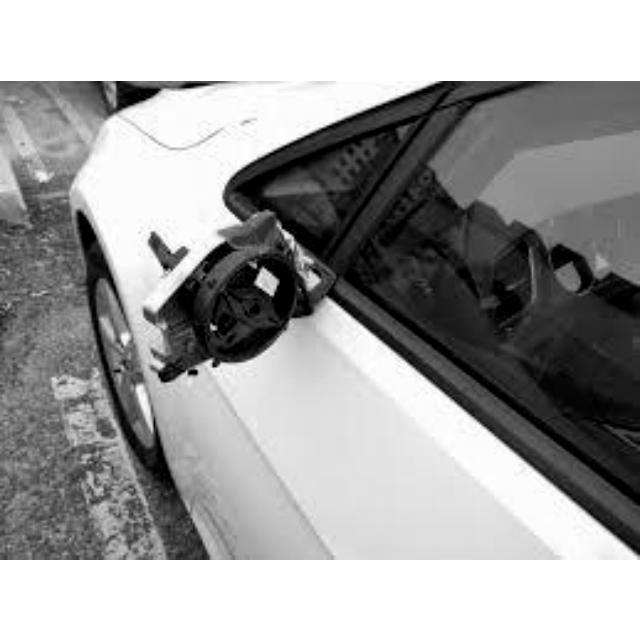Sidemirror-Damage: (126, 238, 328, 366)
